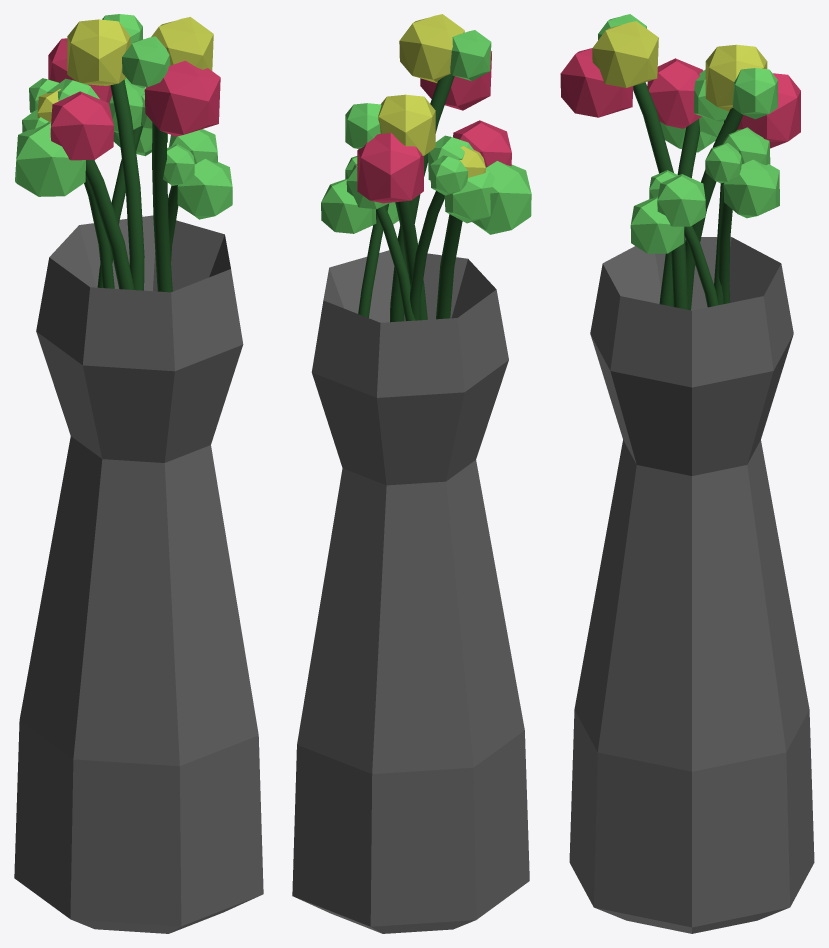
The model's file is FlowerPot.fbx.
3 views of the same model, side by side, from view 1: azimuth 30°, elevation 25°; view 2: azimuth 150°, elevation 25°; view 3: azimuth 270°, elevation 25° (orthographic). The views are drawn at different scales.
Parts seen in each view (by area): view 1: Capsule001; view 2: Capsule001; view 3: Capsule001.
Part boxes in pixels (x1,y1,x2,y2): Capsule001: (14, 14, 263, 933); Capsule001: (292, 14, 531, 933); Capsule001: (560, 14, 814, 933).
Size of the model in its own units: 1.01 by 3.63 by 0.9498.
